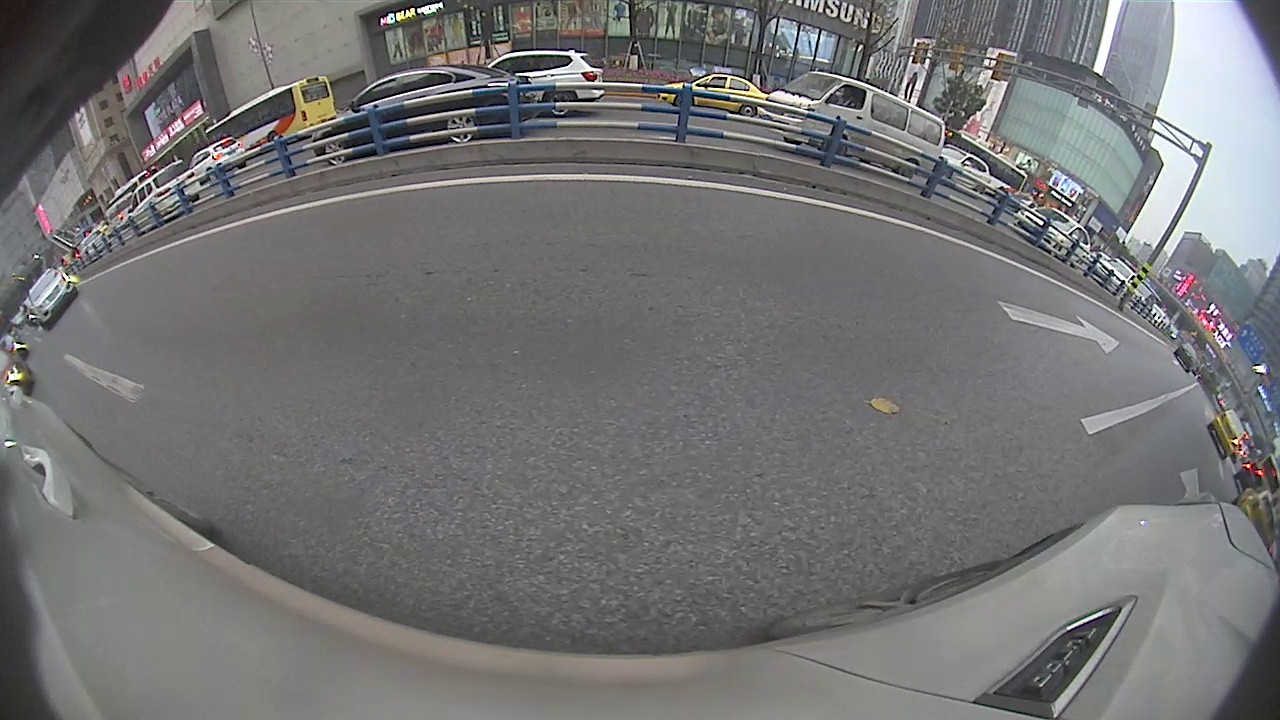car: (308, 60, 544, 168), (759, 68, 948, 184), (484, 46, 609, 119), (654, 70, 773, 119), (1014, 204, 1093, 269), (24, 265, 81, 331)
front: (323, 133, 351, 168)
rear: (444, 109, 480, 146), (550, 91, 577, 118)
